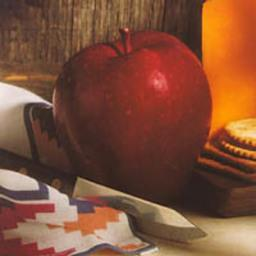apple: (51, 26, 214, 193)
